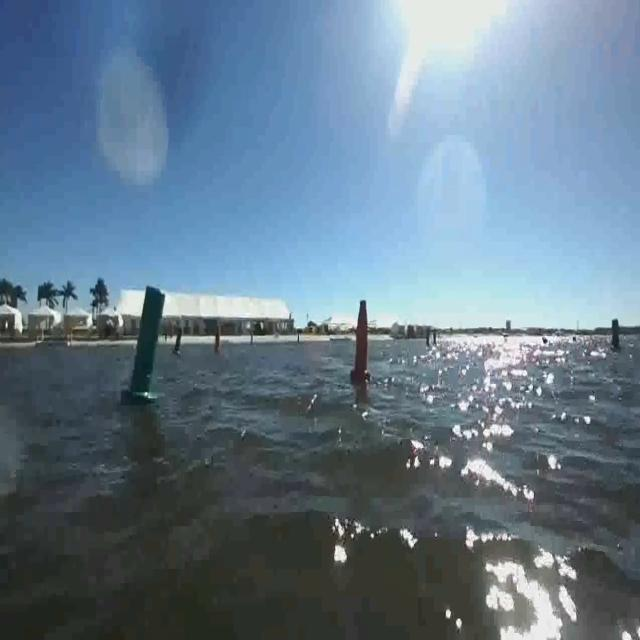green-column-buoy: (125, 285, 165, 408), (611, 320, 624, 354), (173, 328, 184, 355)
red-column-buoy: (351, 297, 372, 383), (214, 328, 224, 356)
